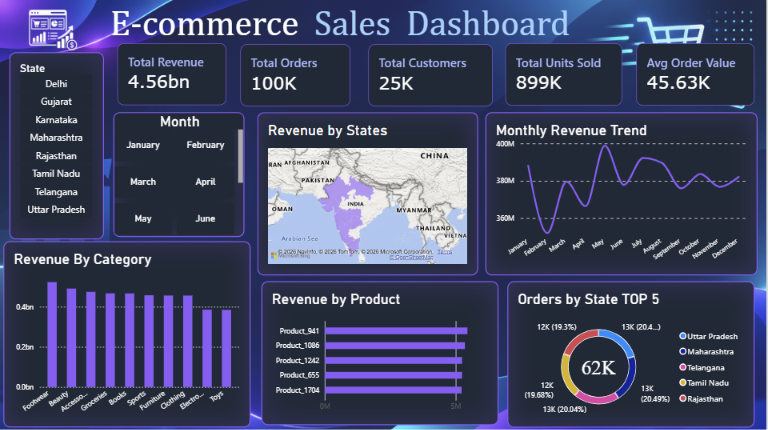

The dashboard page shown, as its layout file describes it:
{"tool":"powerbi","page":{"name":"Page 1","canvas":[1280,720],"ordinal":0},"visuals":[{"type":"cardVisual","title":"Total Revenue","fields":{"Data":["categories.Total Revenue"]},"box":[197.5,73.3,181.4,102.9],"z":0},{"type":"cardVisual","title":"Avg Order Value","fields":{"Data":["categories.Average Order Value"]},"box":[1062.5,73.3,197.1,104.3],"z":1000},{"type":"cardVisual","title":"Total Unit Sold","fields":{"Data":["categories.Total Units Sold"]},"box":[844.2,73.3,194.3,104.3],"z":2000},{"type":"cardVisual","title":"Total Customers","fields":{"Data":["categories.Total Customers"]},"box":[615.8,74.2,207.1,102.9],"z":3000},{"type":"cardVisual","title":"Total Orders","fields":{"Data":["categories.Total Orders"]},"box":[402.5,74.2,182.9,102.9],"z":4000},{"type":"lineChart","title":"Monthly Revenue Trend","fields":{"Category":["orders.Order_Date.Variation.Date Hierarchy.Month","orders.Order_Date.Variation.Date Hierarchy.Day"],"Y":["categories.Total Revenue"]},"box":[812,188,453.3,271.7],"z":5000},{"type":"textbox","box":[18,10,1248,72],"z":6000},{"type":"image","box":[8.8,0,162.5,92.5],"z":7000},{"type":"filledMap","title":"Revenue by States","fields":{"Category":["customers.State"]},"box":[432,188,368.3,271.7],"z":8000},{"type":"donutChart","title":"Orders by State TOP 5","fields":{"Category":["customers.State"],"Y":["categories.Total Orders"]},"box":[848,470,412,244],"z":9000},{"type":"clusteredColumnChart","title":"Revenue By Category","fields":{"Category":["categories.Category_Name"],"Y":["categories.Total Revenue"]},"box":[8.3,403.3,411.7,310],"z":10000},{"type":"clusteredBarChart","title":"Revenue by Product","fields":{"Category":["products.Product_Name"],"Y":["categories.Total Revenue"]},"box":[438.8,470,395,240],"z":10001},{"type":"listSlicer","fields":{"Values":["customers.State"]},"box":[18.2,88.2,157.3,311.8],"z":10002},{"type":"advancedSlicerVisual","fields":{"Values":["orders.Order_Date.Variation.Date Hierarchy.Month"]},"box":[191.7,188.3,218.3,208.3],"z":10003}]}

Visuals, with their boxes in screenshot pixels (x1, y1, x2, y2), scaled from the page's 1280x720 canvas onto the 768x430 screenshot:
"Total Revenue" cardVisual: [left=118, top=44, right=227, bottom=105]
"Avg Order Value" cardVisual: [left=638, top=44, right=756, bottom=106]
"Total Unit Sold" cardVisual: [left=507, top=44, right=623, bottom=106]
"Total Customers" cardVisual: [left=369, top=44, right=494, bottom=106]
"Total Orders" cardVisual: [left=242, top=44, right=351, bottom=106]
"Monthly Revenue Trend" lineChart: [left=487, top=112, right=759, bottom=275]
textbox: [left=11, top=6, right=760, bottom=49]
image: [left=5, top=0, right=103, bottom=55]
"Revenue by States" filledMap: [left=259, top=112, right=480, bottom=275]
"Orders by State TOP 5" donutChart: [left=509, top=281, right=756, bottom=426]
"Revenue By Category" clusteredColumnChart: [left=5, top=241, right=252, bottom=426]
"Revenue by Product" clusteredBarChart: [left=263, top=281, right=500, bottom=424]
listSlicer - customers.State: [left=11, top=53, right=105, bottom=239]
advancedSlicerVisual - orders.Order_Date.Variation.Date Hierarchy.Month: [left=115, top=112, right=246, bottom=237]
